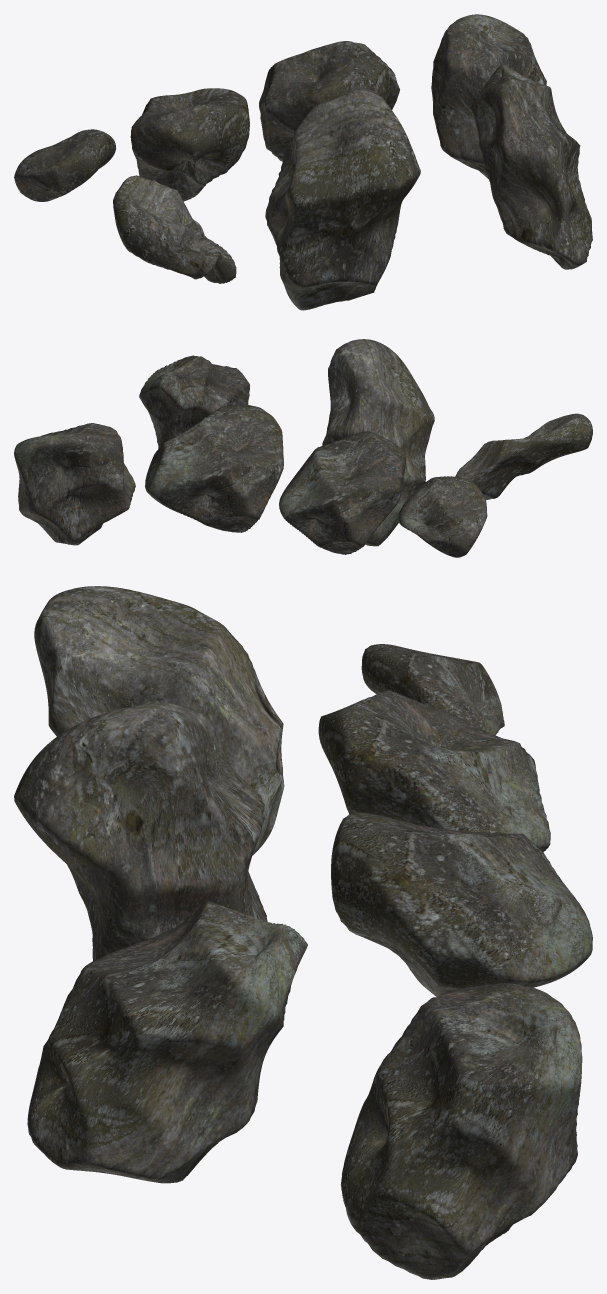
Rendered from midpoly_rocks.glb.
The picture shows the model from 3 angles, top to bottom: view 1: azimuth 30°, elevation 25°; view 2: azimuth 150°, elevation 25°; view 3: azimuth 270°, elevation 25°; orthographic projection. The views are drawn at different scales.
Parts seen in each view (by area): view 1: Cube.003, Cube.002, Cube.005, Cube.001, Cube, Cube.006, Cube.004; view 2: Cube, Cube.001, Cube.005, Cube.003, Cube.002, Cube.006, Cube.004; view 3: Cube.002, Cube.001, Cube.003, Cube, Cube.006, Cube.005, Cube.004.
Boxes of the visible parts, <box> form: Cube.003: <box>265,88,420,310</box>; Cube.002: <box>471,64,592,269</box>; Cube.005: <box>130,88,249,201</box>; Cube.001: <box>431,14,546,178</box>; Cube: <box>259,41,399,161</box>; Cube.006: <box>113,175,236,283</box>; Cube.004: <box>14,129,116,201</box>; Cube: <box>145,404,283,532</box>; Cube.001: <box>14,423,135,545</box>; Cube.005: <box>279,431,406,554</box>; Cube.003: <box>322,339,434,546</box>; Cube.002: <box>139,355,249,448</box>; Cube.006: <box>455,413,592,499</box>; Cube.004: <box>398,476,487,557</box>; Cube.002: <box>27,900,307,1183</box>; Cube.001: <box>340,983,582,1279</box>; Cube.003: <box>14,703,267,960</box>; Cube: <box>331,812,592,996</box>; Cube.006: <box>34,586,284,855</box>; Cube.005: <box>318,690,550,852</box>; Cube.004: <box>361,644,504,735</box>.
Bounding box in the file's own units: 815 × 337 × 473.
1 material, 1 textured.
